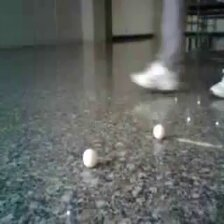w: (82, 147, 98, 166), (152, 124, 166, 140)
